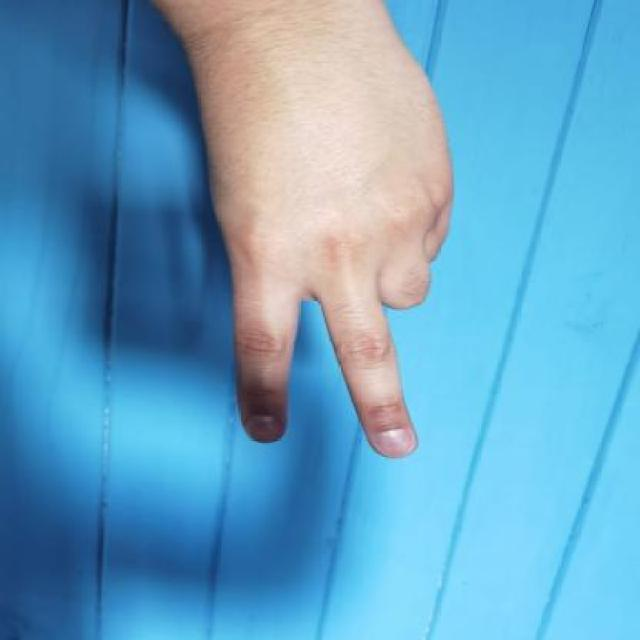N: (149, 0, 489, 475)
